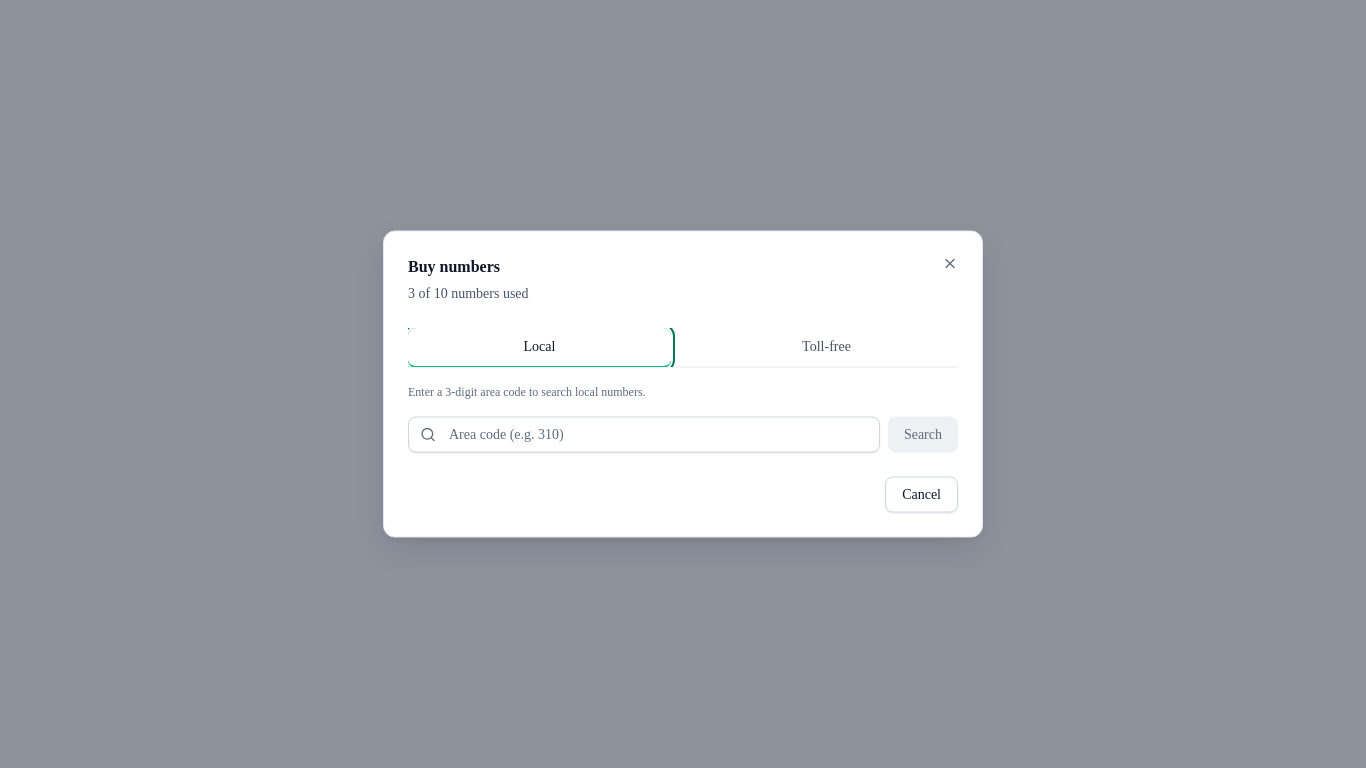
it: Buy numbers › searches every enabled carrier through one endpoint, and names none to an owner
Check: the text "3 of 10 numbers used" is shown, box x1=408 y1=285 x2=528 y2=300
Check: the tabs read "Local", "Toll-free", in this order, box x1=408 y1=327 x2=671 y2=367; x1=695 y1=327 x2=958 y2=367
Type "615" into the field labelled "Area code". click: (644, 434)
box: x1=408 y1=416 x2=880 y2=452
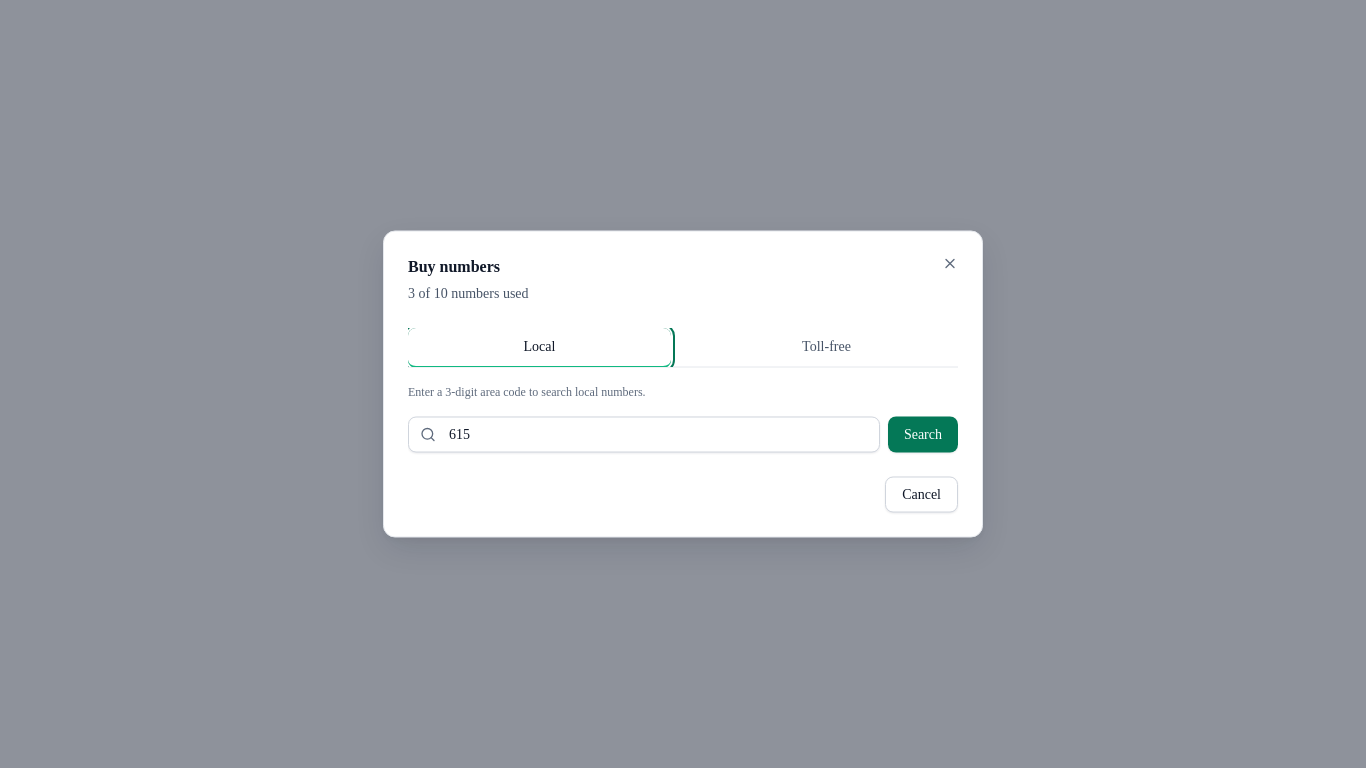
Click the button "Search". click: click(923, 434)
box: x1=888 y1=416 x2=958 y2=452
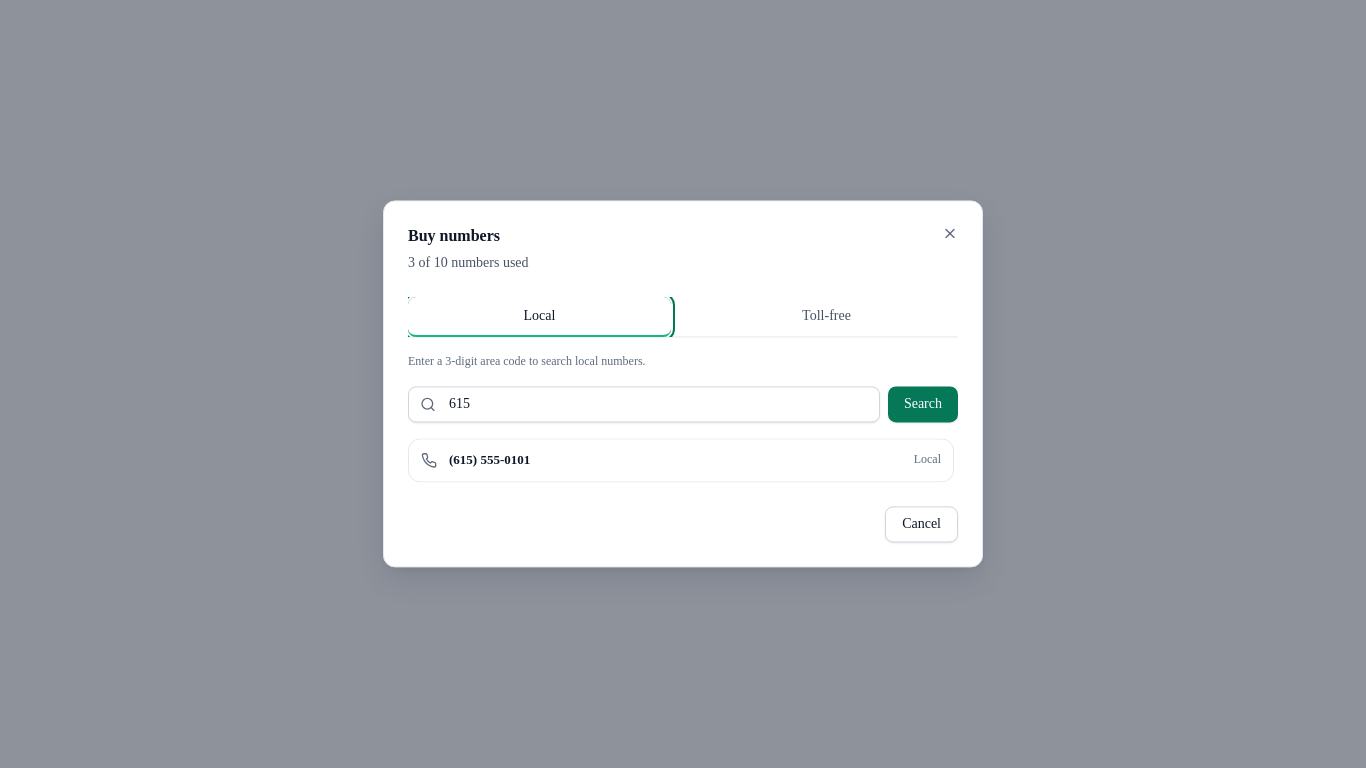
Check: the text "(615) 555-0101" is shown, box x1=449 y1=451 x2=530 y2=470
